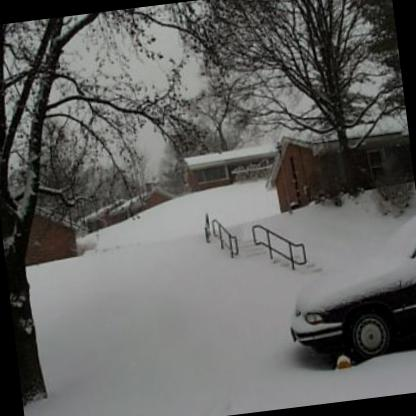car: (277, 207, 415, 373)
